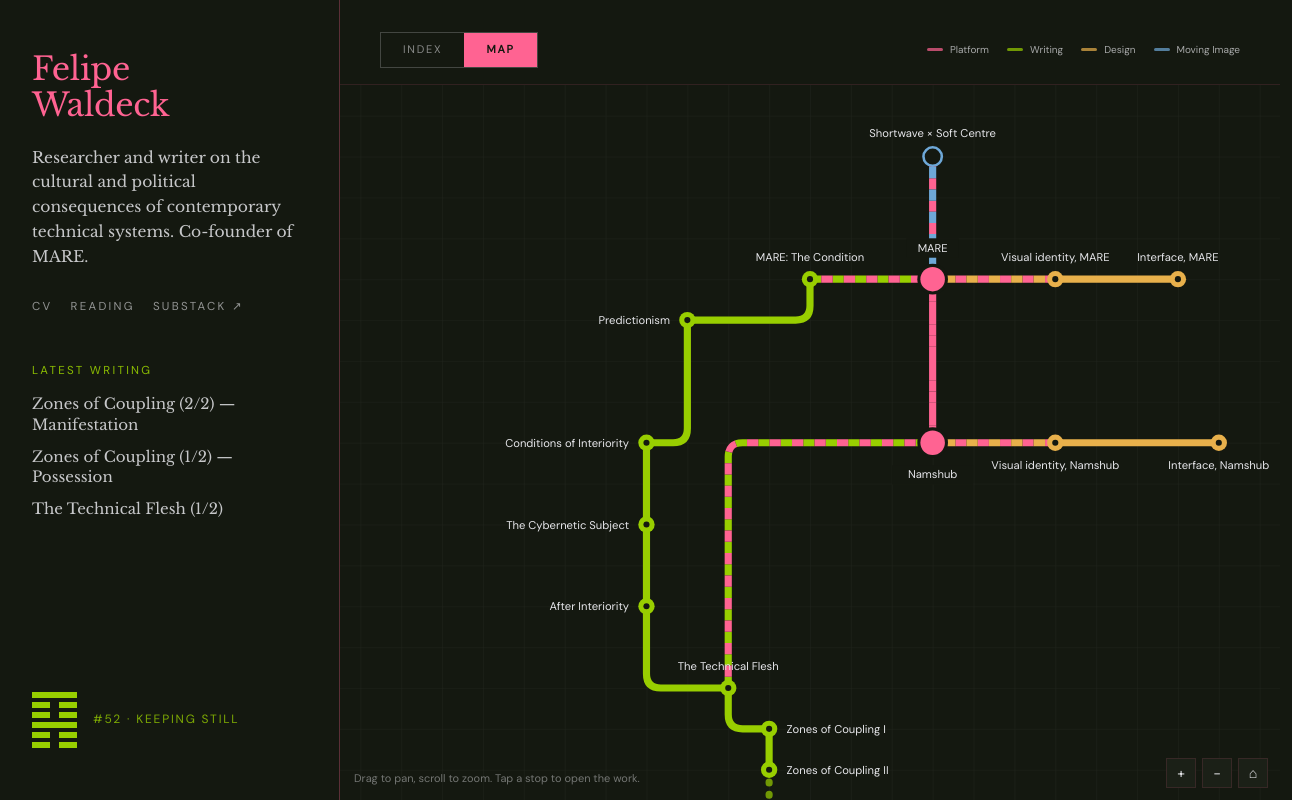
Test case: Home › switches to the Index view
Click the button "Index" at (423,50), box top-left (381, 33), bottom-right (464, 67)
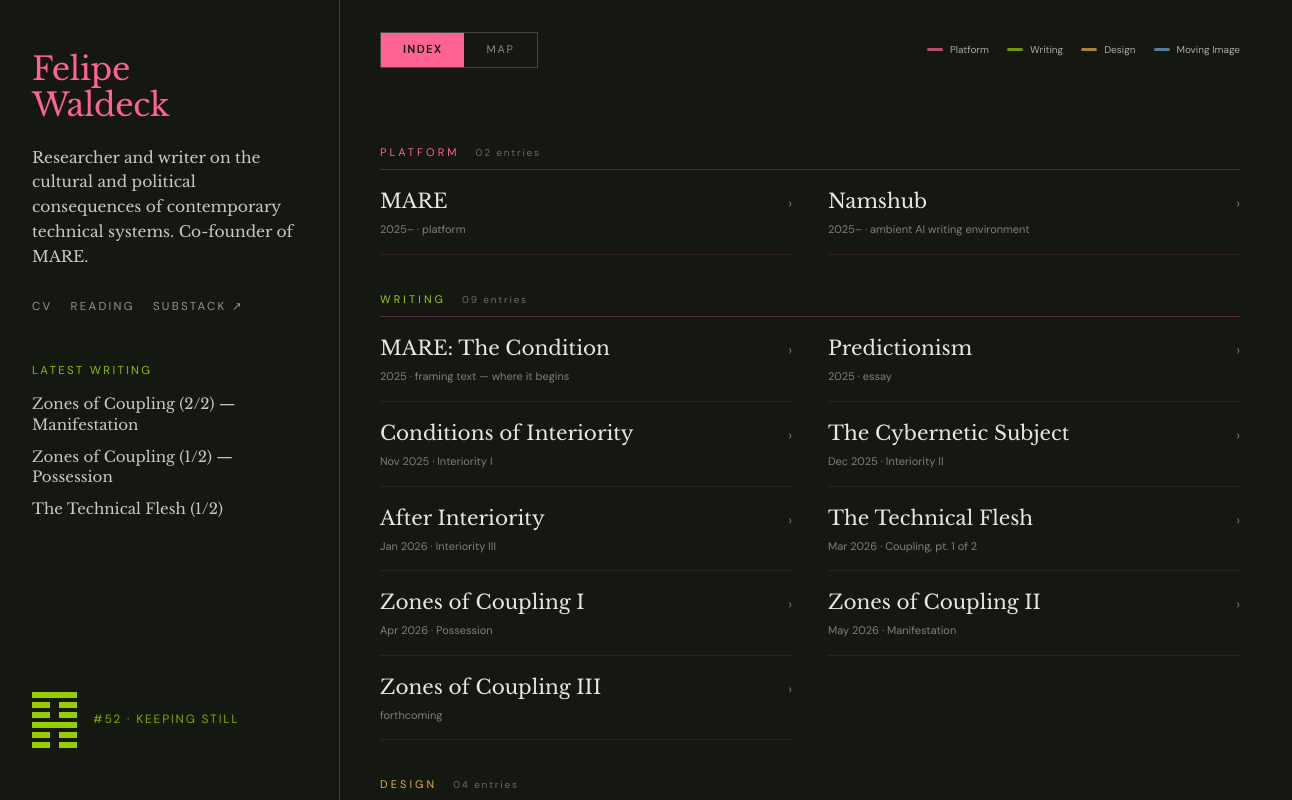
expect the heading "Platform" is shown: met, box top-left (380, 144), bottom-right (460, 161)
